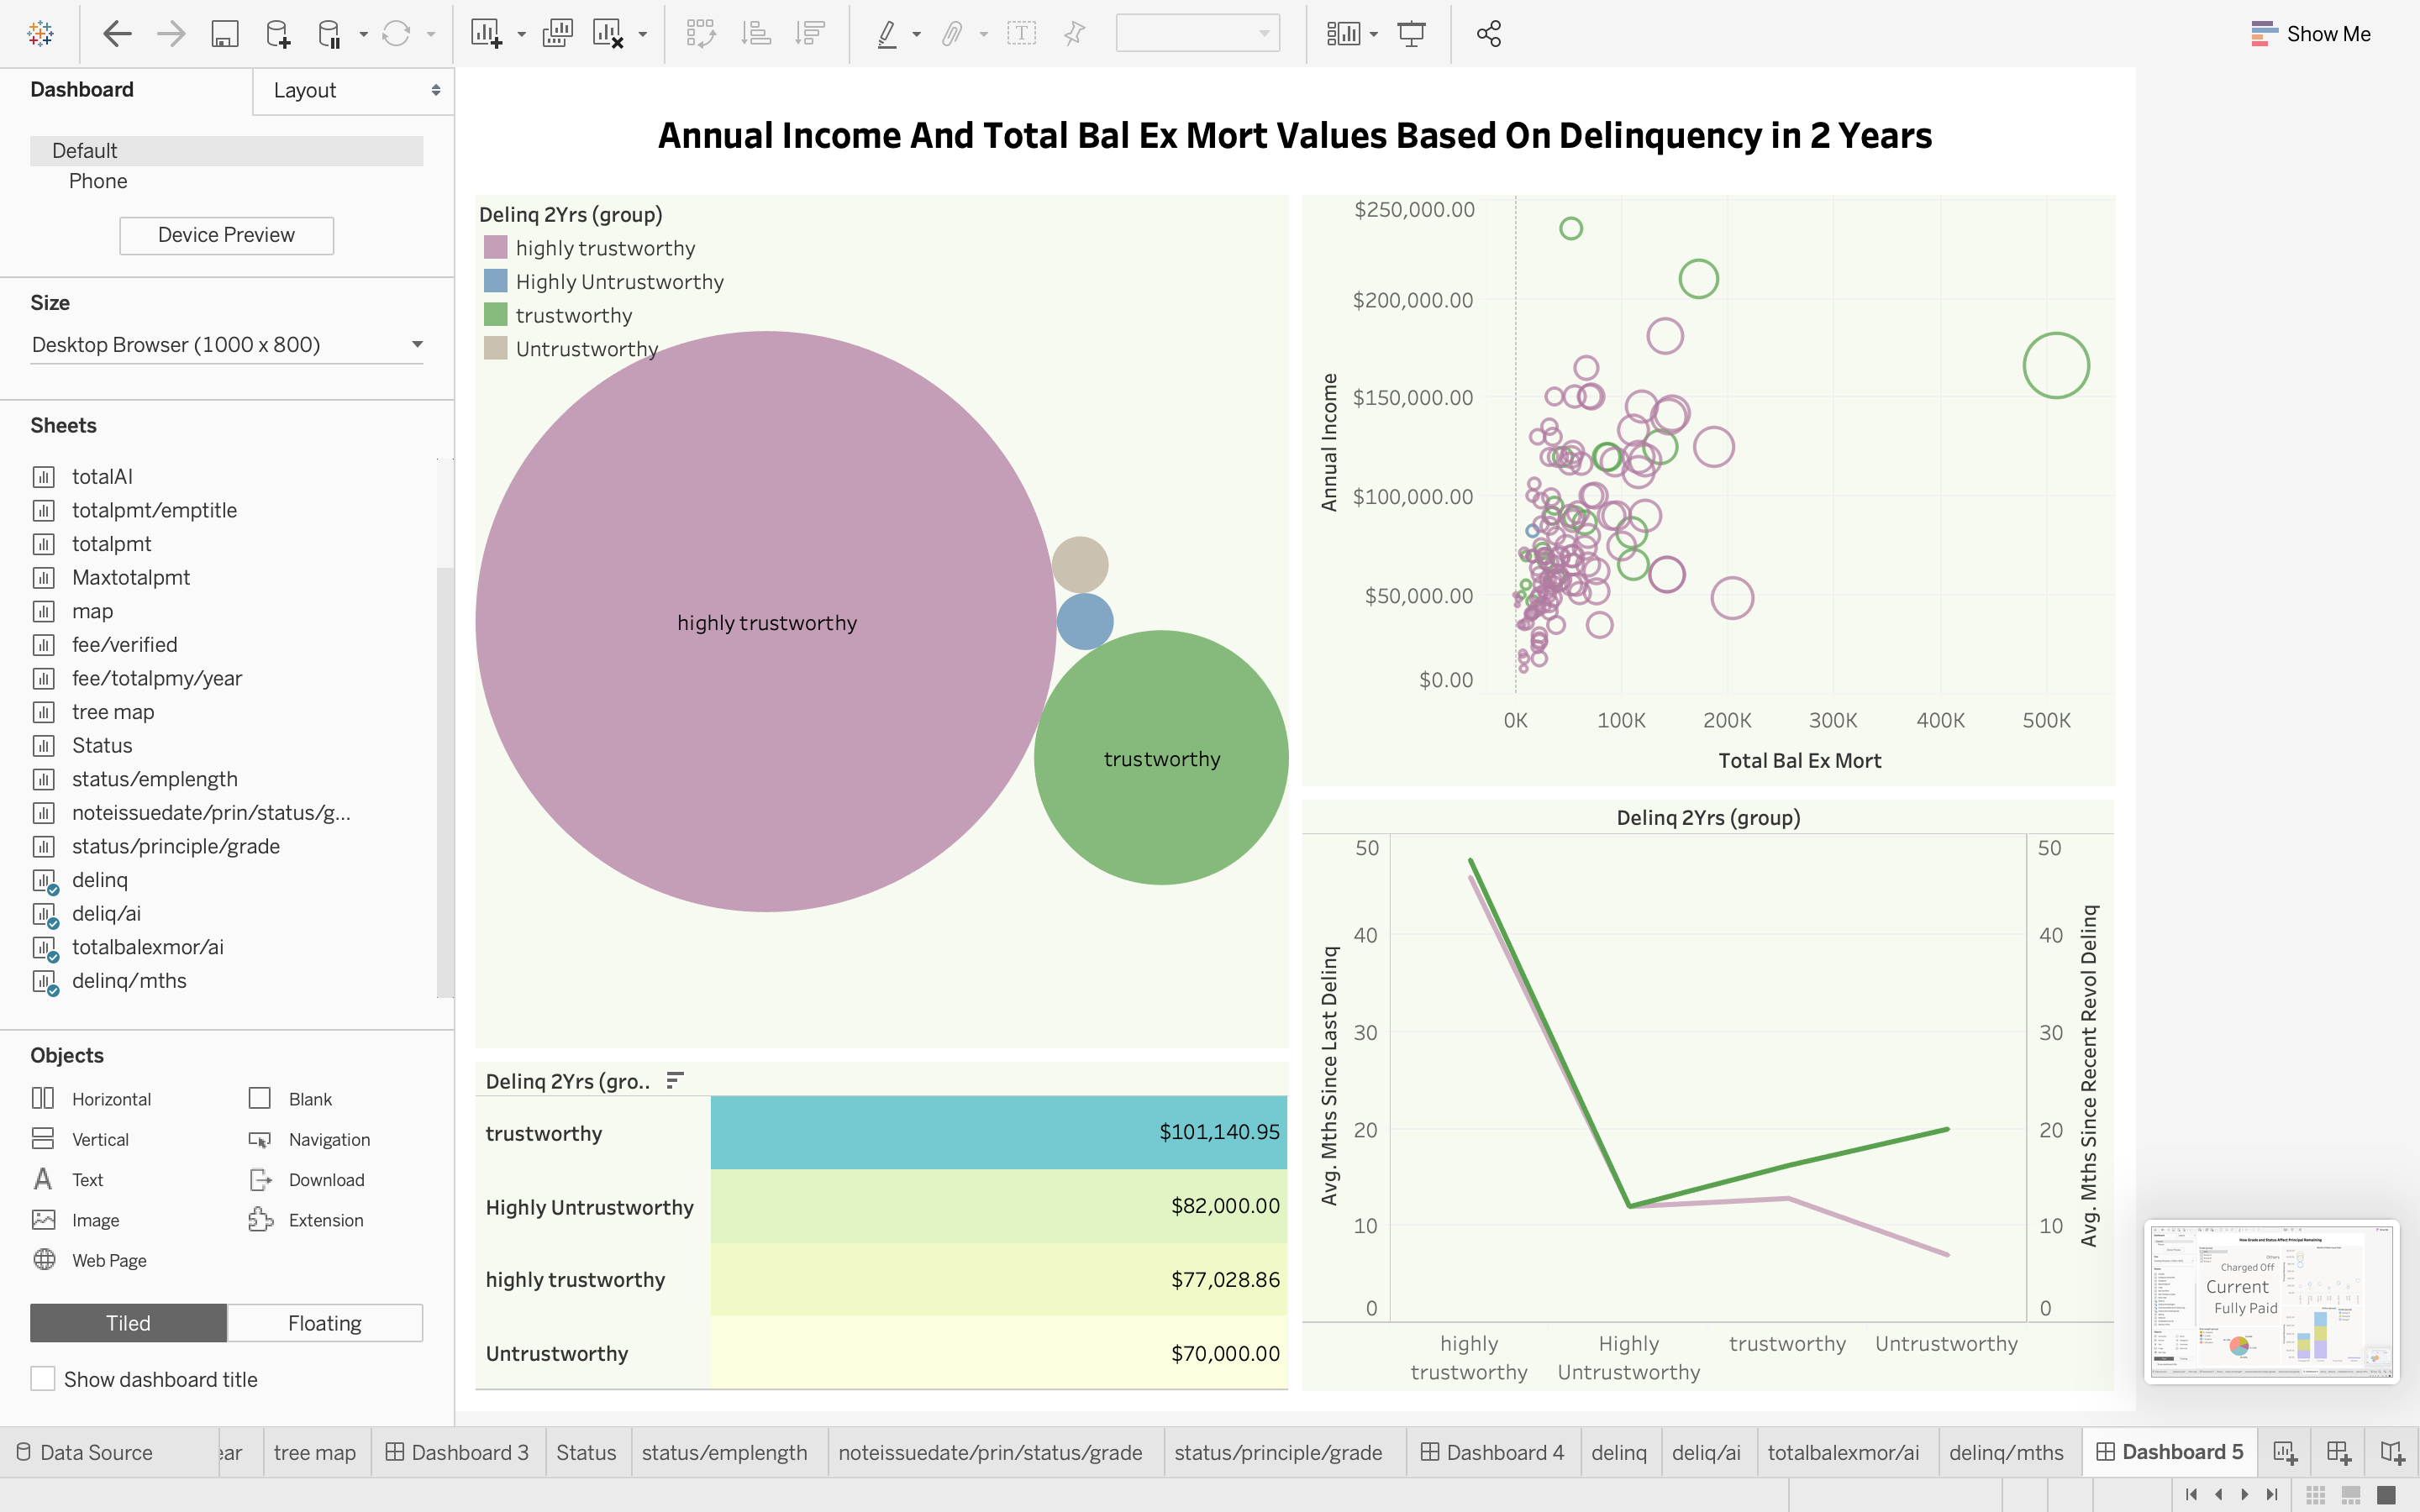

What the dashboard file says about the page in this screenshot:
{"tool":"tableau","page":{"name":"Dashboard 5","canvas":[1000,800],"ordinal":3},"visuals":[{"type":"worksheet","box":[0,0,1000,800]},{"type":"worksheet","box":[8,8,984,64]},{"type":"worksheet","param":"horz","box":[8,72,984,720]},{"type":"worksheet","param":"horz","box":[8,72,984,720]},{"type":"worksheet","param":"horz","box":[8,72,984,720]},{"type":"worksheet","param":"horz","box":[8,72,984,720]},{"type":"worksheet","param":"horz","box":[8,72,984,720]},{"type":"worksheet","box":[8,72,984,720]},{"type":"worksheet","title":"delinq","mark":"Circle","box":[8,72,492,516.1]},{"type":"worksheet","title":"totalbalexmor/ai","mark":"Automatic","rows":["annual_income"],"cols":["total_bal_ex_mort"],"box":[500,72,492,360]},{"type":"worksheet","title":"delinq","mark":"Circle","param":"[federated.1r03xfe1tay67917j0ytv04nyqhp].[Delinq 2Yrs (group)]","box":[14,79,151,98]},{"type":"worksheet","title":"delinq/mths","mark":"Line","rows":["mths_since_last_delinq","mths_since_recent_revol_delinq"],"box":[500,432,492,360]},{"type":"worksheet","title":"deliq/ai","mark":"Square","box":[8,588.1,492,203.9]}]}

Visuals, with their boxes on the page's 1000x800 design canvas (x1, y1, x2, y2). These are canvas units, not pixel positions in the 2420x1512 screenshot, which may show the page scaled, cropped or inside an application window:
worksheet: rect(0, 0, 1000, 800)
worksheet: rect(8, 8, 992, 72)
worksheet: rect(8, 72, 992, 792)
worksheet: rect(8, 72, 992, 792)
worksheet: rect(8, 72, 992, 792)
worksheet: rect(8, 72, 992, 792)
worksheet: rect(8, 72, 992, 792)
worksheet: rect(8, 72, 992, 792)
"delinq" worksheet (Circle marks): rect(8, 72, 500, 588)
"totalbalexmor/ai" worksheet: rect(500, 72, 992, 432)
"delinq" worksheet (Circle marks): rect(14, 79, 165, 177)
"delinq/mths" worksheet (Line marks): rect(500, 432, 992, 792)
"deliq/ai" worksheet (Square marks): rect(8, 588, 500, 792)
